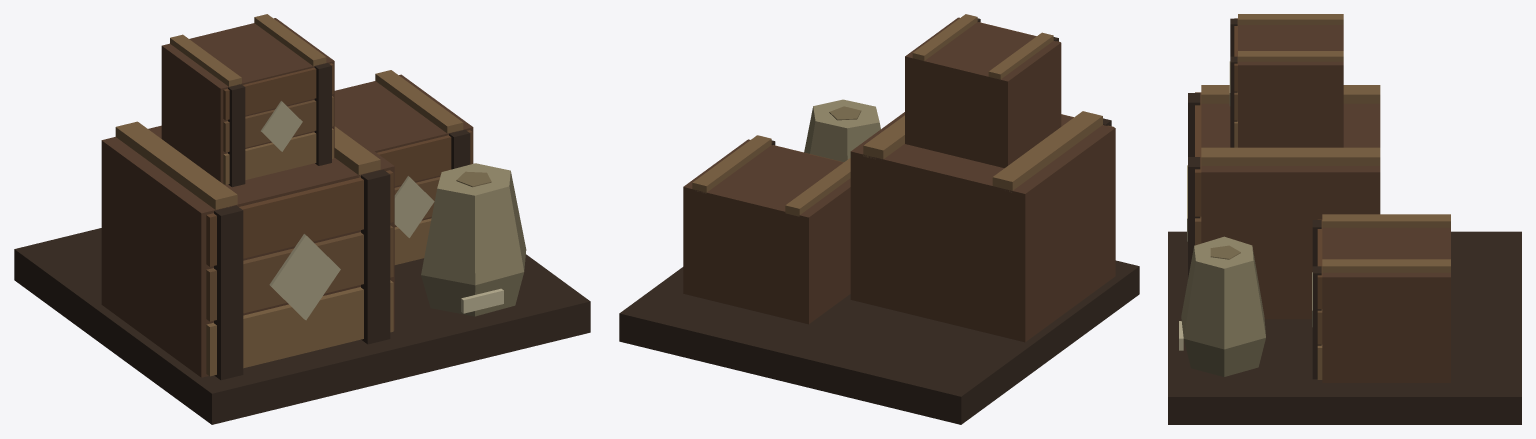
File: salt-cargo.glb
The picture shows the model from 3 angles, left to right: view 1: azimuth 30°, elevation 25°; view 2: azimuth 150°, elevation 25°; view 3: azimuth 270°, elevation 25°; orthographic projection. The views are drawn at different scales.
Parts seen in each view (by area): view 1: Salt and supply cargo; view 2: Salt and supply cargo; view 3: Salt and supply cargo.
Part boxes in pixels (left/top/right/bottom): Salt and supply cargo: left=14, top=14, right=590, bottom=424; Salt and supply cargo: left=619, top=14, right=1139, bottom=424; Salt and supply cargo: left=1168, top=14, right=1521, bottom=424.
Bounding box in the file's own units: 0.94 × 0.716 × 0.85.
